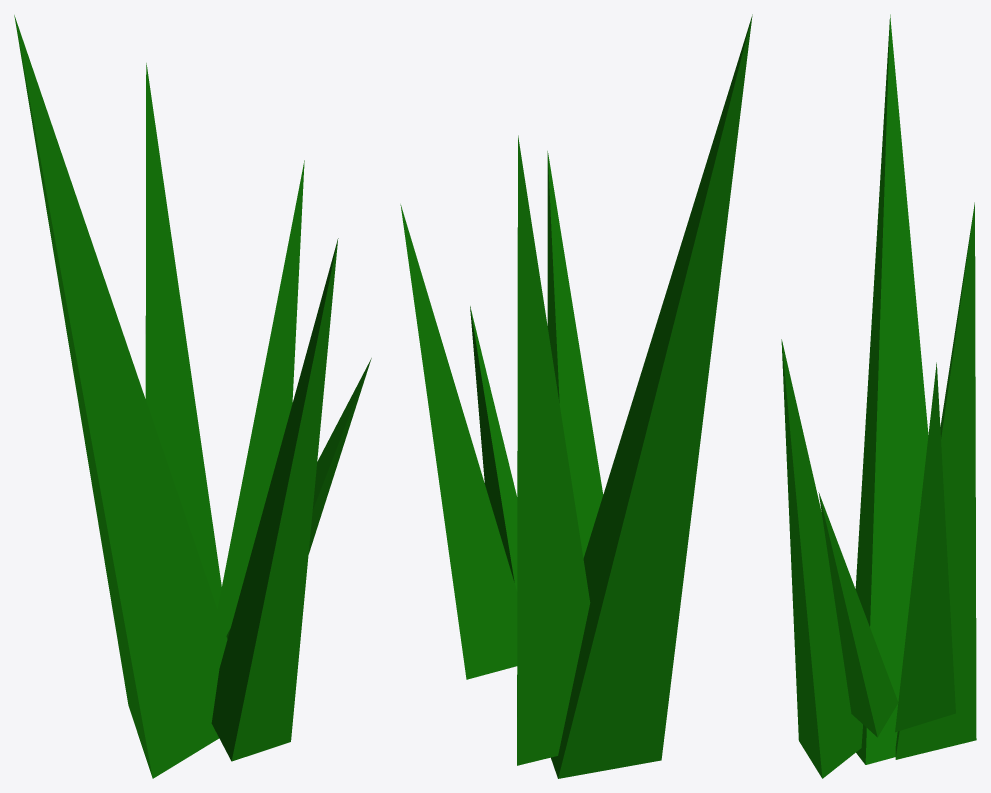
File: grass.fbx
3 renders of one model, left to right at view 1: azimuth 30°, elevation 25°; view 2: azimuth 150°, elevation 25°; view 3: azimuth 270°, elevation 25°, orthographic. The views are drawn at different scales.
Parts seen in each view (by area): view 1: Cone.003, Cone.004, Cone, Cone.002, Cone.001; view 2: Cone.003, Cone, Cone.002, Cone.004, Cone.001; view 3: Cone.003, Cone.004, Cone, Cone.002, Cone.001.
Part boxes in pixels (<box>): Cone.003: <box>14,15,227,778</box>; Cone.004: <box>211,238,338,761</box>; Cone: <box>145,63,221,609</box>; Cone.002: <box>217,160,304,635</box>; Cone.001: <box>226,358,371,638</box>; Cone.003: <box>551,14,752,778</box>; Cone: <box>517,135,590,765</box>; Cone.002: <box>400,204,517,679</box>; Cone.004: <box>547,151,603,558</box>; Cone.001: <box>470,306,517,591</box>; Cone.003: <box>855,14,928,764</box>; Cone.004: <box>781,339,862,778</box>; Cone: <box>895,202,976,759</box>; Cone.002: <box>895,362,955,732</box>; Cone.001: <box>818,492,898,737</box>.
Bounding box in the file's own units: 315 × 734 × 191.
